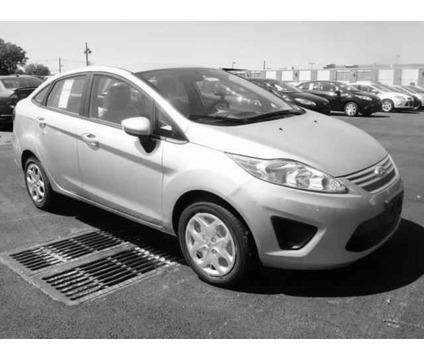car: (14, 59, 408, 290)
